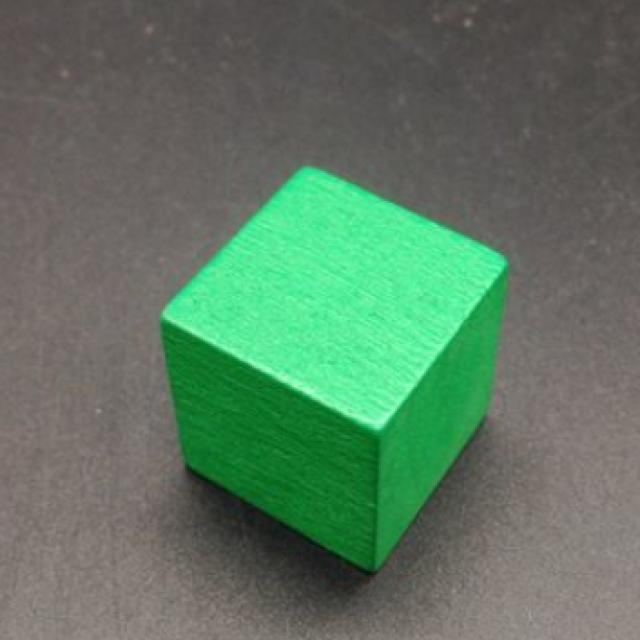green cube: (160, 166, 512, 577)
